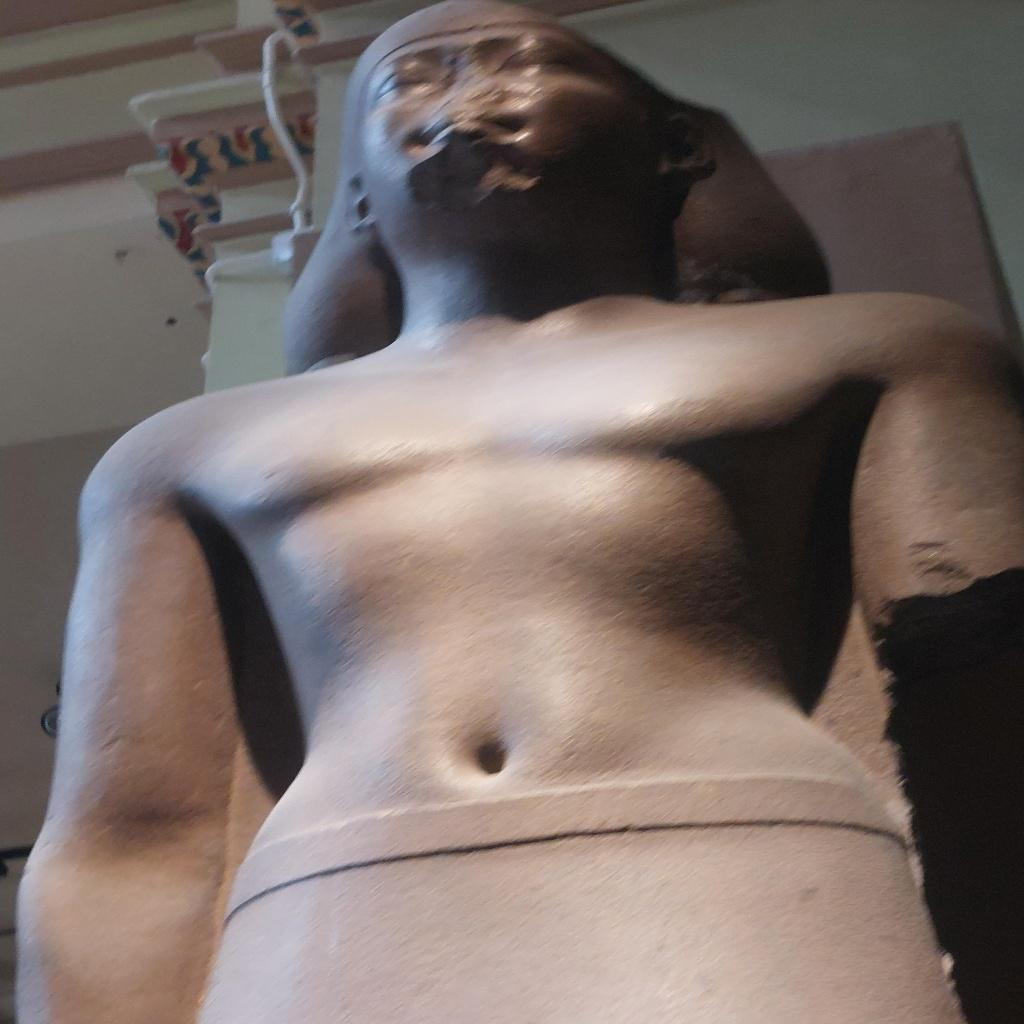Colossal Statue of Hormoheb: (14, 4, 1016, 1018)
